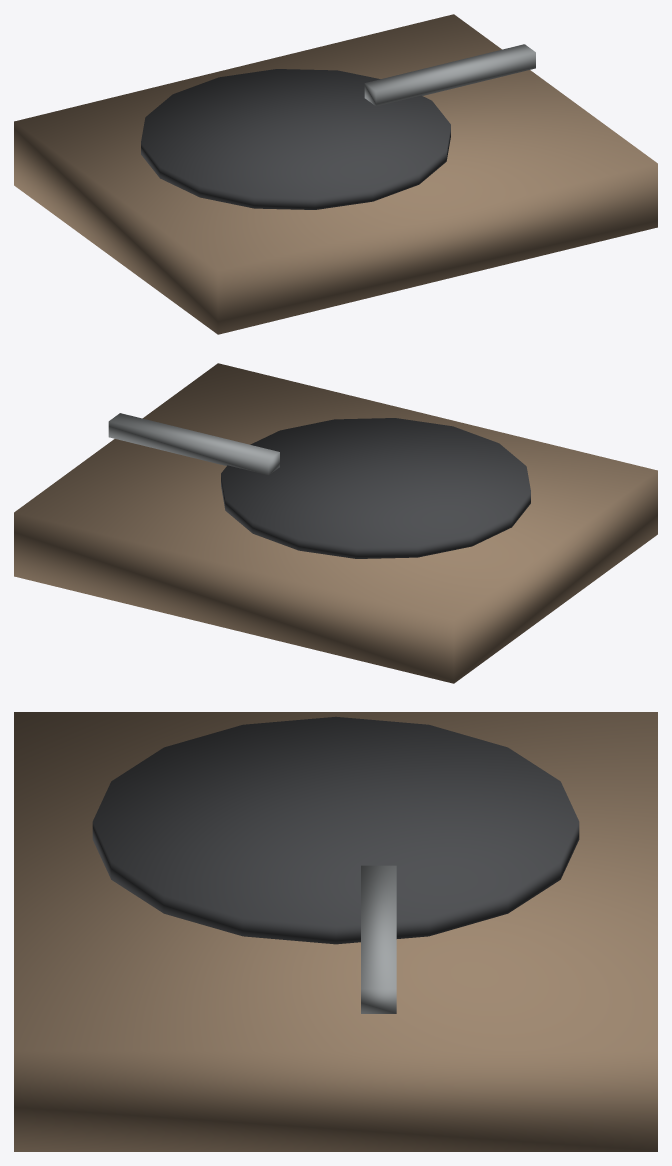
File: record_player__squat.glb
The picture shows the model from 3 angles, top to bottom: view 1: azimuth 30°, elevation 25°; view 2: azimuth 150°, elevation 25°; view 3: azimuth 270°, elevation 25°; orthographic projection. The views are drawn at different scales.
Parts seen in each view (by area): view 1: world; view 2: world; view 3: world.
Part boxes in pixels (box(x1,y1,x2,y2)): world: box(14, 14, 657, 334); world: box(14, 363, 657, 683); world: box(14, 712, 657, 1151).
Size of the model in its own units: 0.605 by 0.1281 by 0.486.
